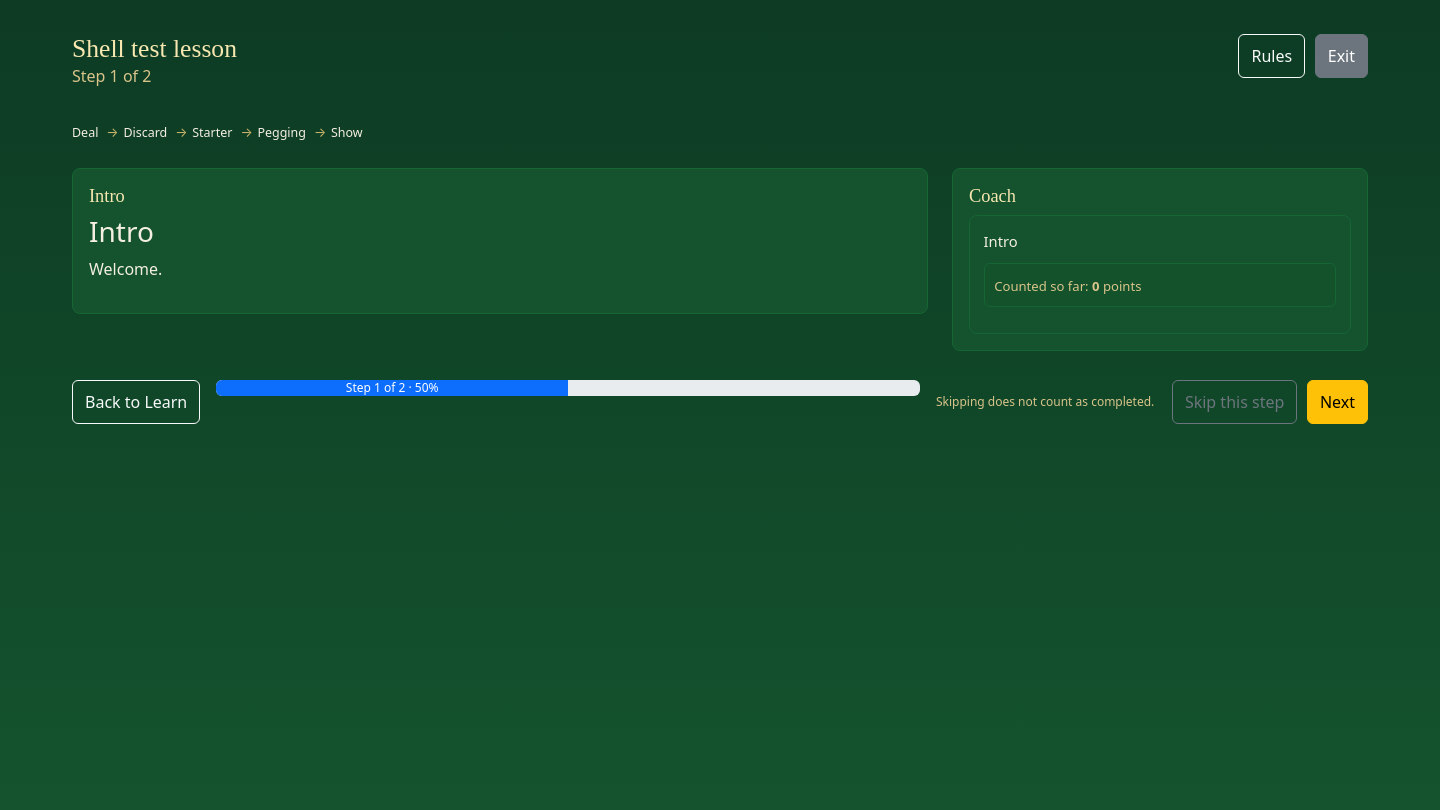
Test: TutorialShell › opens the Rules offcanvas from the header
The width and height of the screenshot is (1440, 810).
Expected: the heading "rules reference" is not shown
Click the button "Rules" at (1272, 56), box [1238,34,1305,78]
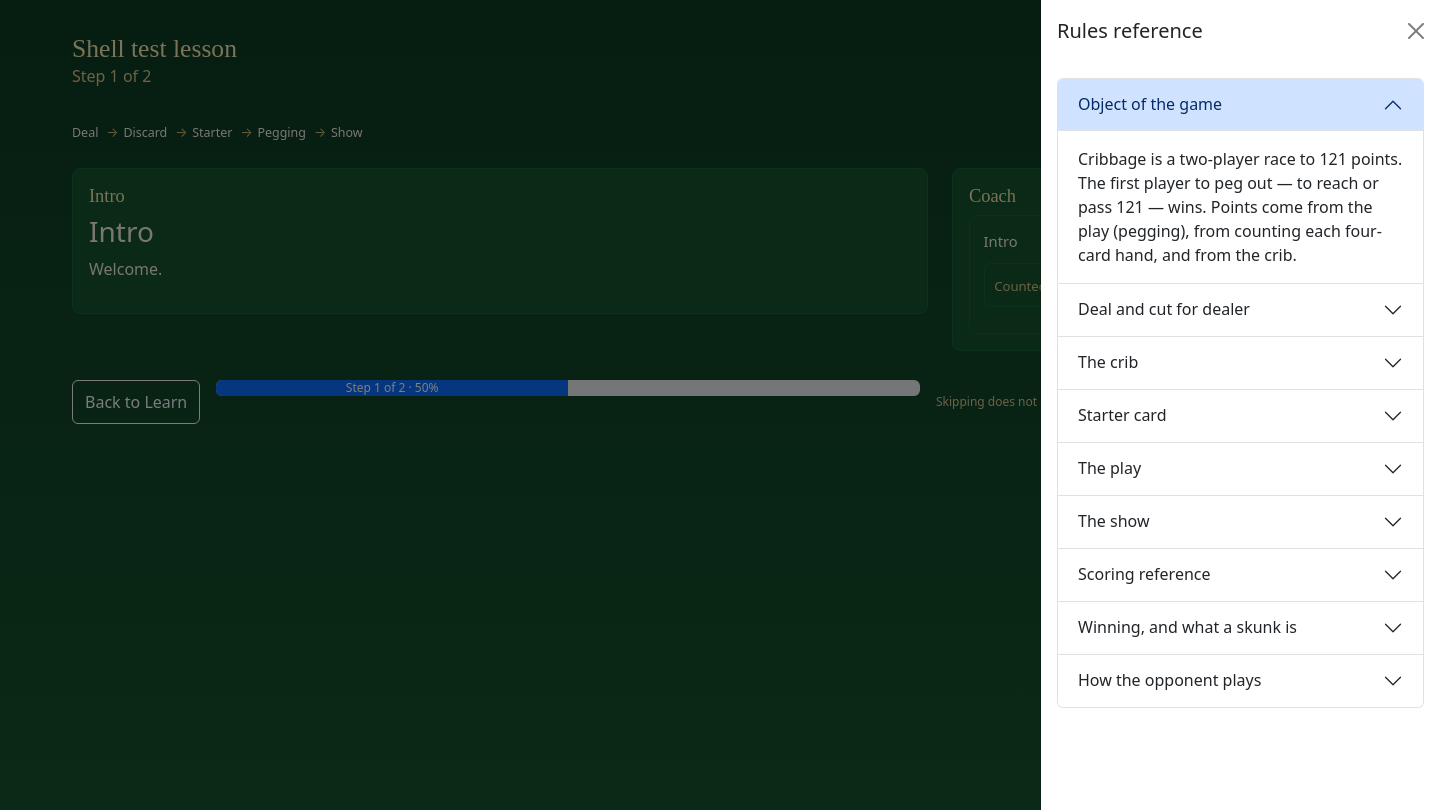
Expected: the text "Rules reference" is shown, [1057,16,1203,46]
